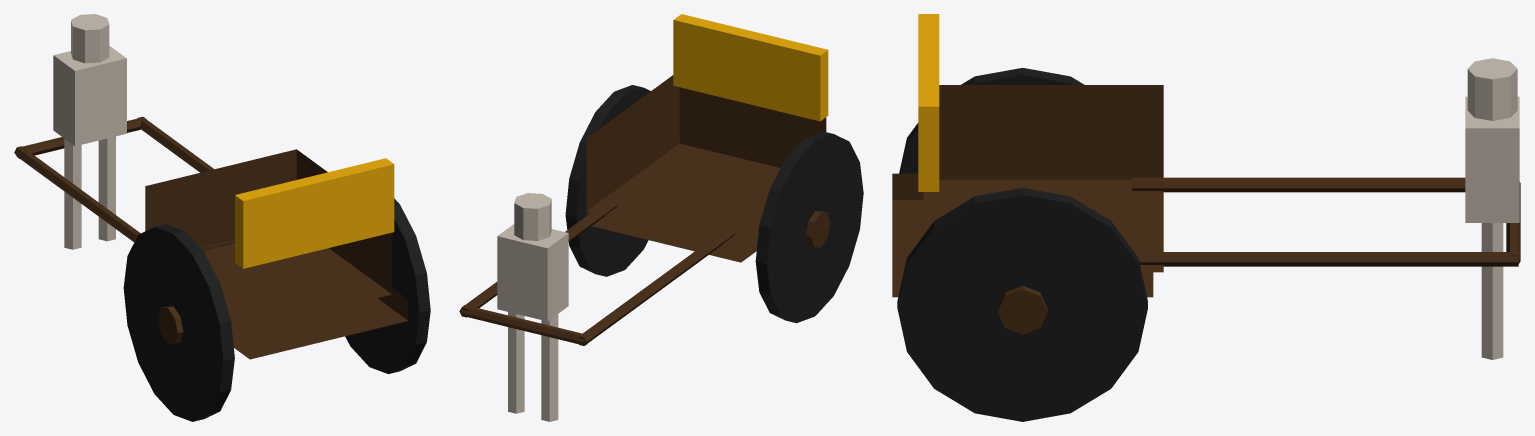
The model's file is hand_pulled_cart.fbx.
3 renders of one model, left to right at view 1: azimuth 30°, elevation 25°; view 2: azimuth 150°, elevation 25°; view 3: azimuth 270°, elevation 25°, orthographic. The views are drawn at different scales.
Visible parts, largest first — view 1: hand_pulled_cart; view 2: hand_pulled_cart; view 3: hand_pulled_cart.
Part boxes in pixels (<box>): hand_pulled_cart: <box>14,14,430,421</box>; hand_pulled_cart: <box>459,14,863,421</box>; hand_pulled_cart: <box>892,14,1520,421</box>.
Bounding box in the file's own units: 1.52 × 1.58 × 3.01.
